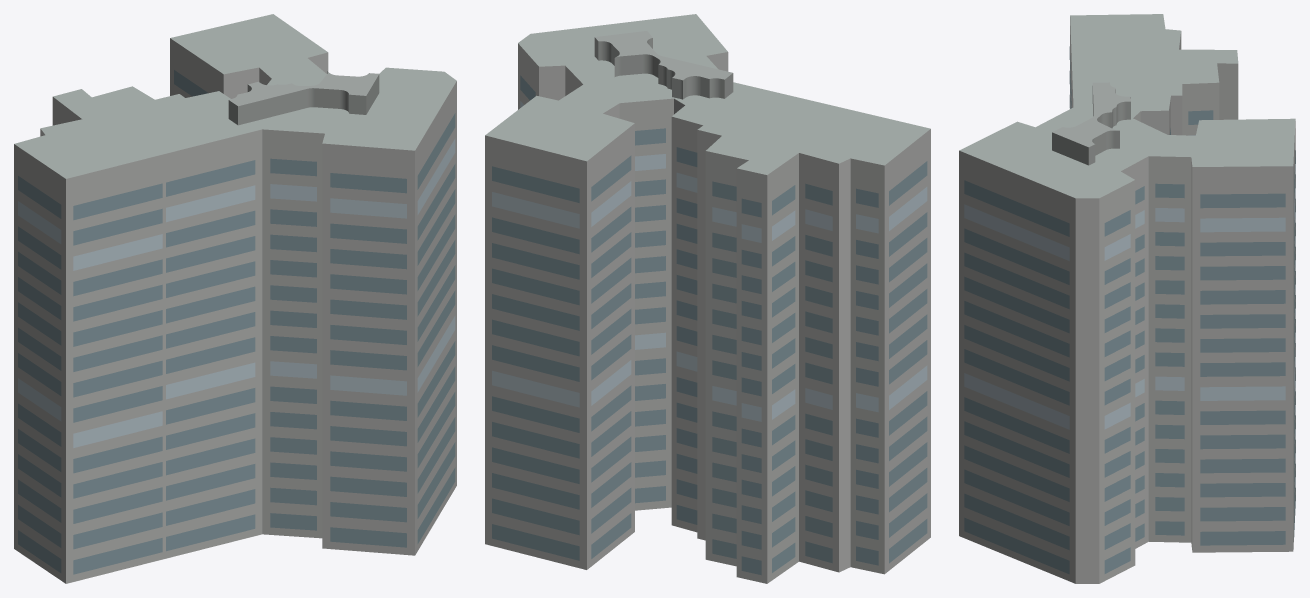
The model's file is fallback-godeok-central-ipark-519.glb.
3 renders of one model, left to right at view 1: azimuth 30°, elevation 25°; view 2: azimuth 150°, elevation 25°; view 3: azimuth 270°, elevation 25°, orthographic. The views are drawn at different scales.
Visible parts, largest first — view 1: fallback-godeok-central-ipark-519; view 2: fallback-godeok-central-ipark-519; view 3: fallback-godeok-central-ipark-519.
Part boxes in pixels (box(x1,y1,x2,y2)): fallback-godeok-central-ipark-519: box(14, 14, 456, 583); fallback-godeok-central-ipark-519: box(485, 14, 930, 583); fallback-godeok-central-ipark-519: box(959, 14, 1295, 583).
Size of the model in its own units: 46.05 by 47 by 35.53.
